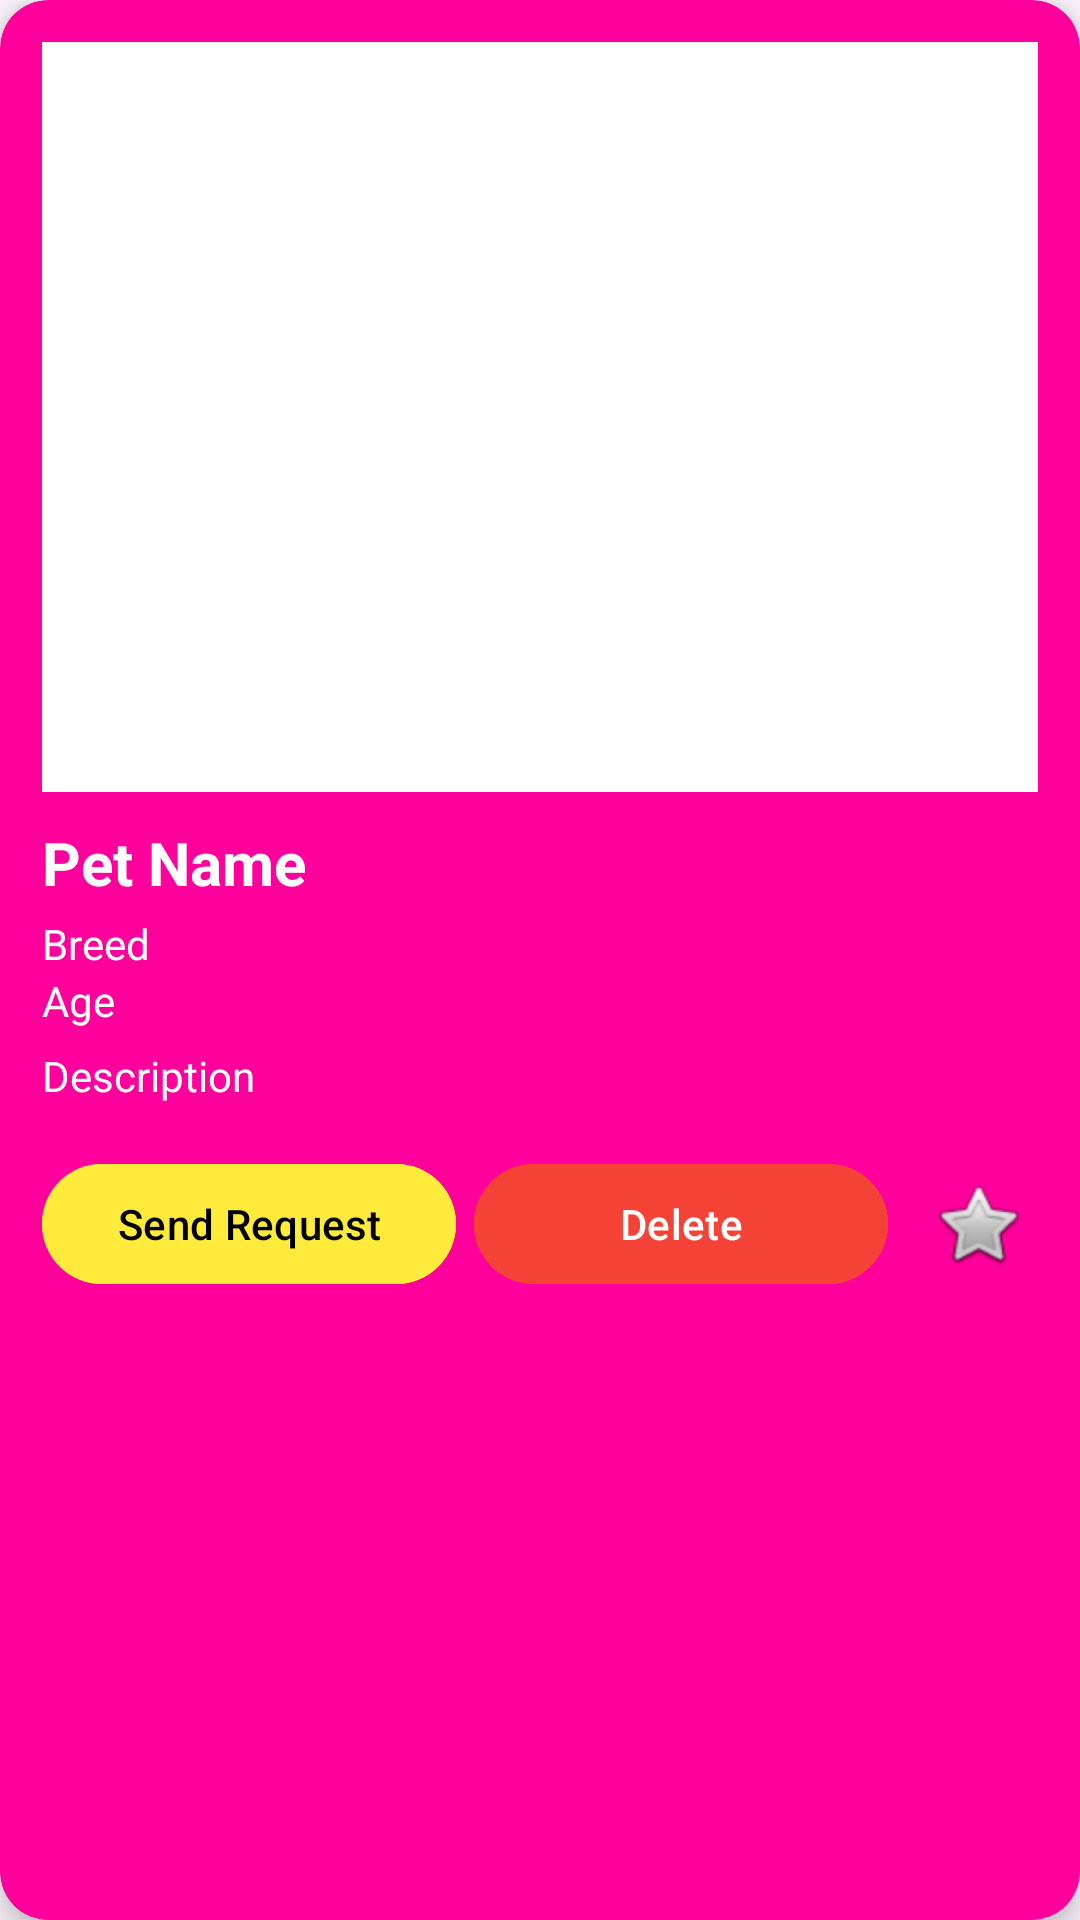

Icons on this 1080 x 1920 Android screen, each with the point to tap as [x,y]:
Favorite: [979,1225]
